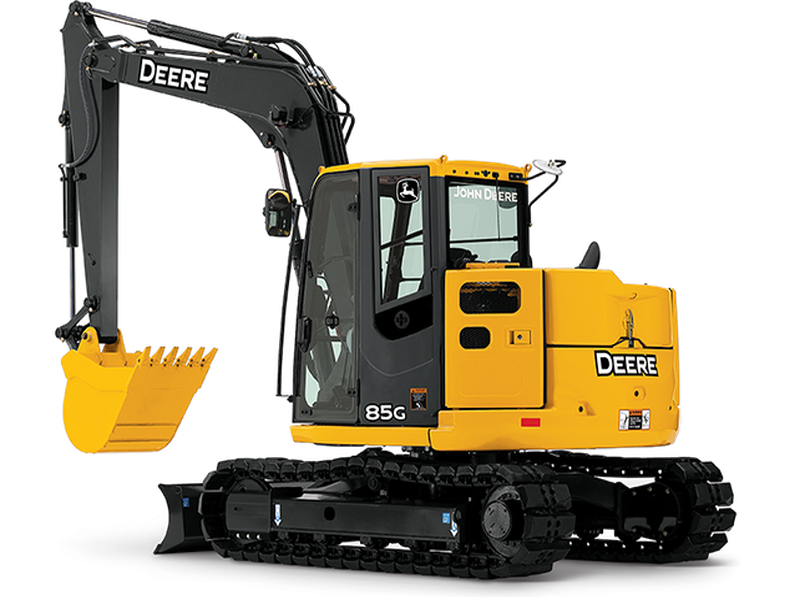shovel: (41, 1, 749, 591)
